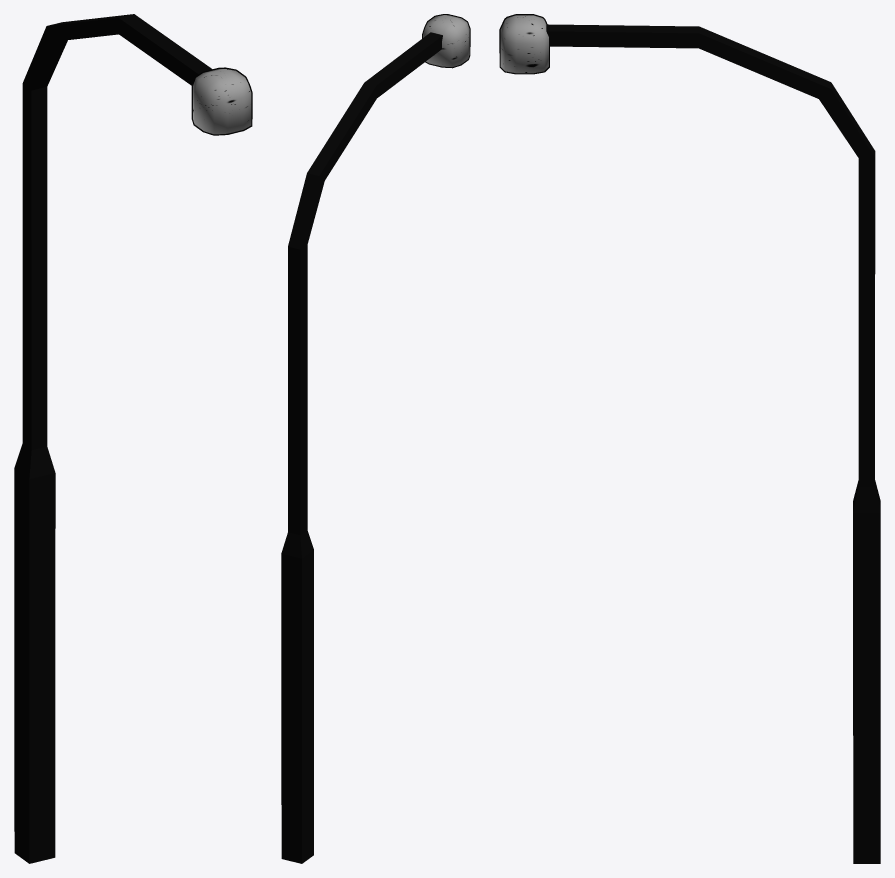
File: street_spot_light.obj
The picture shows the model from 3 angles, left to right: view 1: azimuth 30°, elevation 25°; view 2: azimuth 150°, elevation 25°; view 3: azimuth 270°, elevation 25°; orthographic projection. The views are drawn at different scales.
Parts seen in each view (by area): view 1: Cylinder; view 2: Cylinder; view 3: Cylinder.
Part boxes in pixels (x1,y1,x2,y2): Cylinder: [14, 14, 252, 863]; Cylinder: [281, 14, 470, 863]; Cylinder: [499, 14, 880, 863].
Bounding box in the file's own units: 3.94 × 71.89 × 29.57.
